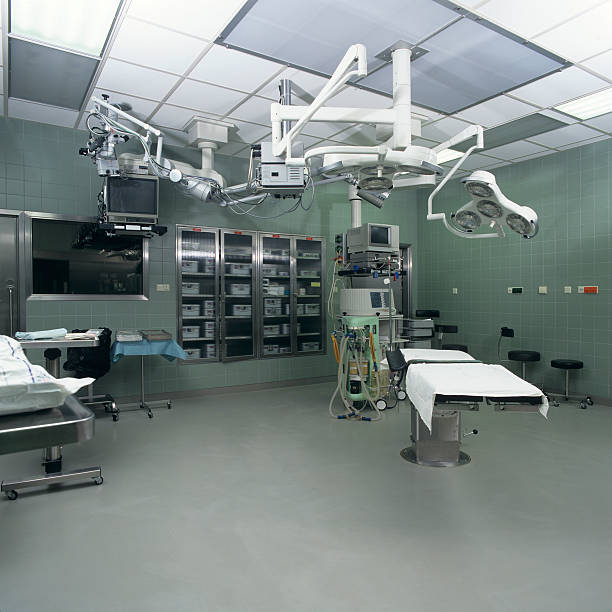bedside_monitor: (100, 175, 160, 220), (366, 223, 392, 250)
cabinet: (174, 222, 329, 361)
chair: (546, 356, 594, 408), (505, 349, 540, 383)
door_handle: (8, 285, 18, 341)
iv_pole: (371, 253, 409, 344)
operating_bed: (385, 346, 549, 461)
surgical_light: (452, 170, 540, 240), (317, 152, 443, 195)
utility_cart: (12, 328, 116, 420), (113, 327, 175, 414)
